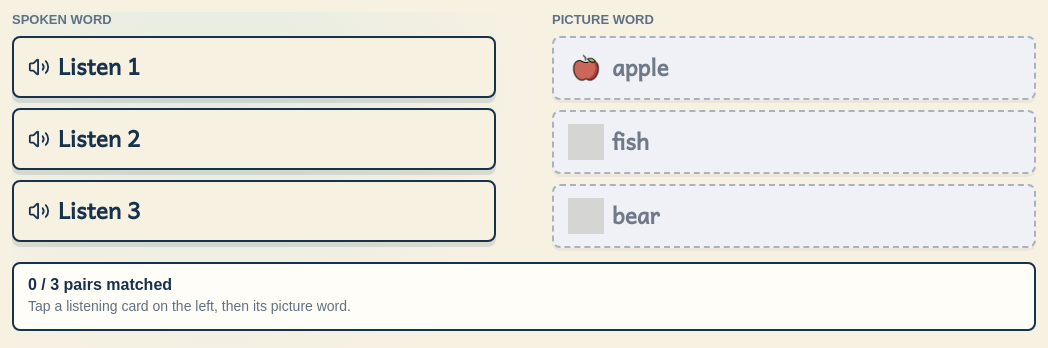
it: tap matching board › plays a spoken word when its hidden left card is selected and shows a picture on the right
Later steps or results of the test are not shown.
Click the button "Listen 1" at (99, 66), box [12,36,496,98]
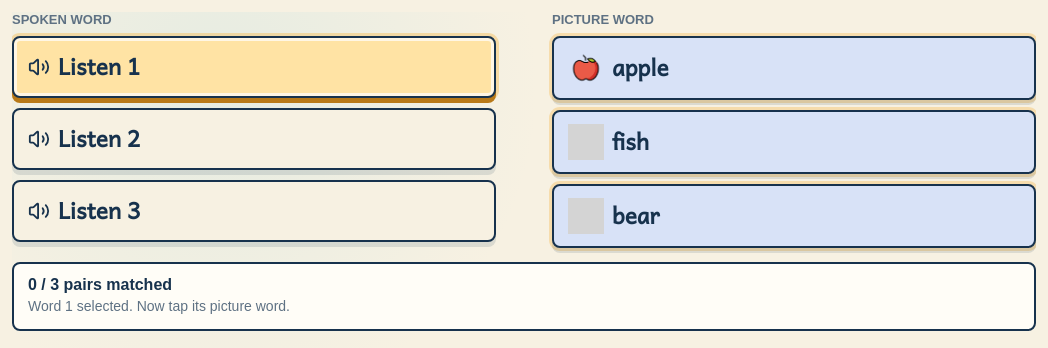
Expected: the message does not show "apple", [12,262,1036,331]
Result: the message shows "Word 1 selected" at [28,298,290,314]
